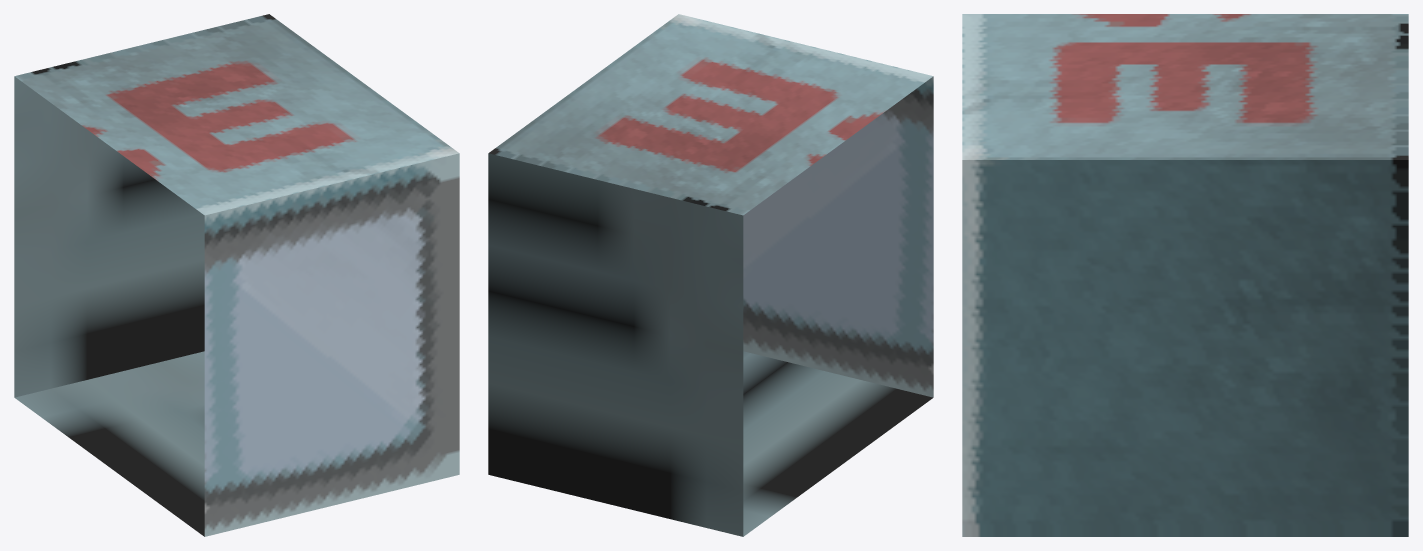
The model's file is pz_g016_popsicle_freezer_part0.obj.
3 renders of one model, left to right at view 1: azimuth 30°, elevation 25°; view 2: azimuth 150°, elevation 25°; view 3: azimuth 270°, elevation 25°, orthographic. The views are drawn at different scales.
Visible parts, largest first — view 1: native_component_0_z+, native_component_0_y+, native_component_0_z-, native_component_0_y-; view 2: native_component_0_z-, native_component_0_y+, native_component_0_z+, native_component_0_y-; view 3: native_component_0_x+, native_component_0_y+.
Boxes of the visible parts, left/top/right/bottom form: native_component_0_z+: left=204, top=153, right=459, bottom=536; native_component_0_y+: left=14, top=14, right=458, bottom=215; native_component_0_z-: left=14, top=76, right=204, bottom=397; native_component_0_y-: left=15, top=351, right=204, bottom=536; native_component_0_z-: left=488, top=153, right=743, bottom=536; native_component_0_y+: left=489, top=14, right=933, bottom=215; native_component_0_z+: left=743, top=76, right=933, bottom=397; native_component_0_y-: left=743, top=351, right=932, bottom=536; native_component_0_x+: left=962, top=160, right=1408, bottom=536; native_component_0_y+: left=962, top=14, right=1408, bottom=159.
Bounding box in the file's own units: 0.5993 × 0.7222 × 0.7749.
Materials: 1 (1 with a texture image).
